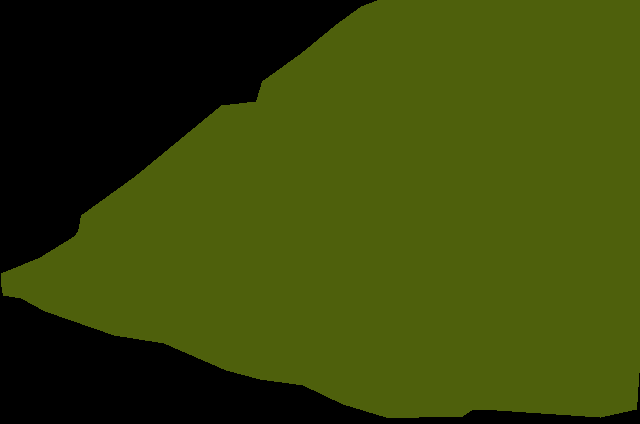Train: (1, 0, 640, 417)
